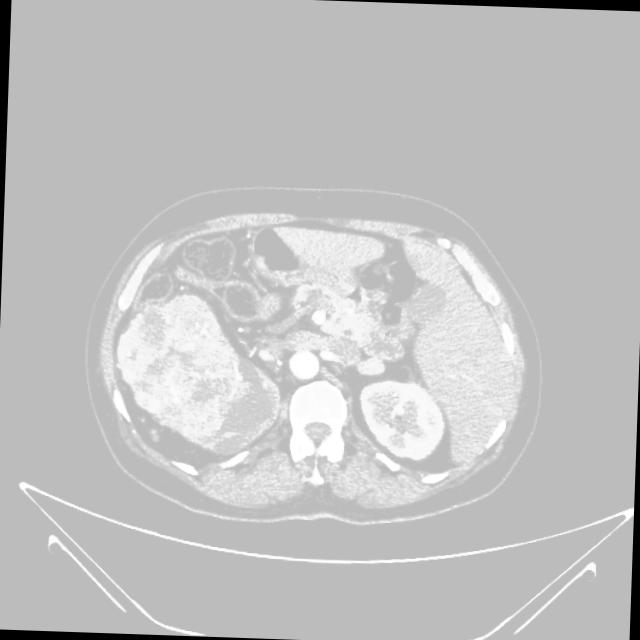TUMOR: (139, 340, 480, 469)
